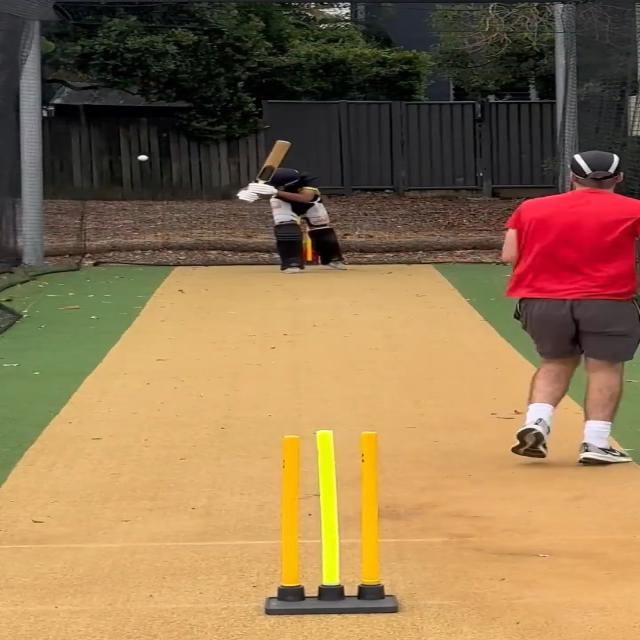ball: (136, 154, 150, 162)
stump: (261, 427, 401, 613)
